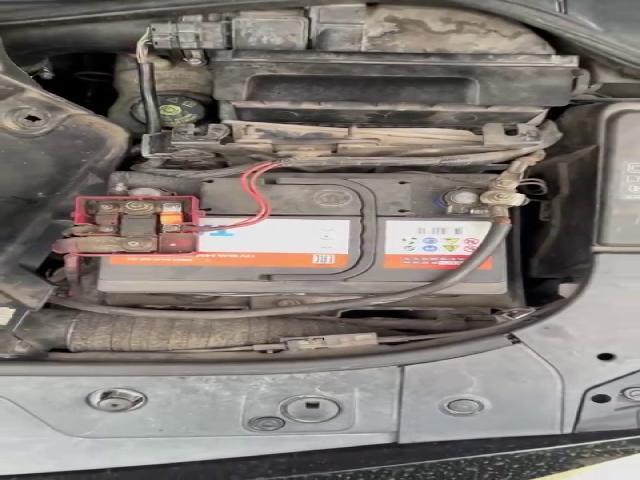accumulator: (67, 171, 522, 296)
